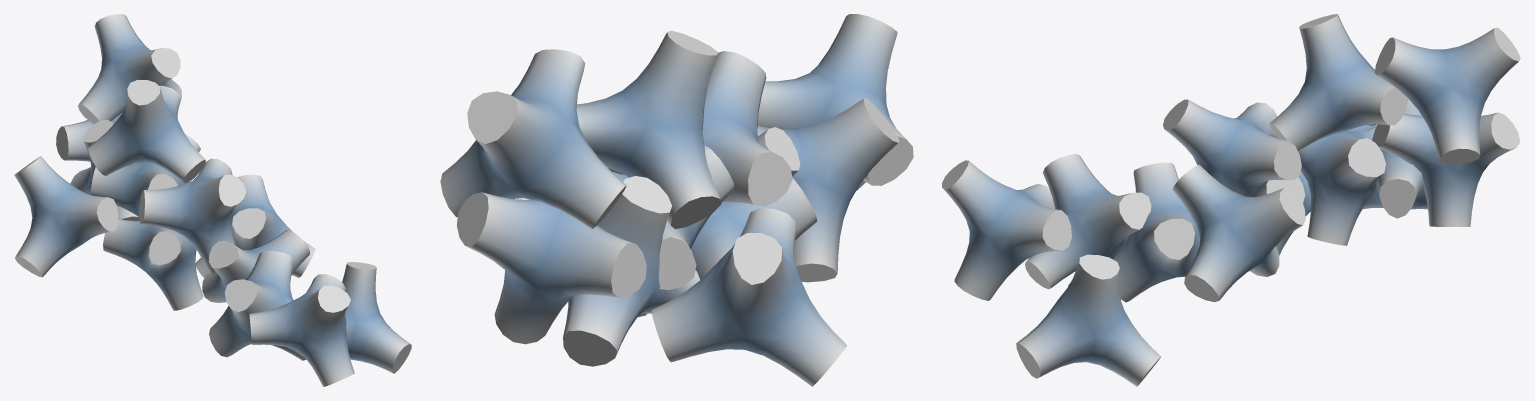
File: Tetrapods_02_cluster_wall.fbx
3 renders of one model, left to right at view 1: azimuth 30°, elevation 25°; view 2: azimuth 150°, elevation 25°; view 3: azimuth 270°, elevation 25°, orthographic. The views are drawn at different scales.
Visible parts, largest first — view 1: Cube.015, Cube.026, Cube.018, Cube.011, Cube.016, Cube.010, Cube.014, Cube.019, Cube.013, Cube.012, Cube.009, Cube.003 (+1 smaller); view 2: Cube.016, Cube.026, Cube.003, Cube.015, Cube.018, Cube.014, Cube, Cube.011, Cube.010, Cube.009, Cube.013; view 3: Cube.016, Cube.012, Cube.018, Cube.019, Cube.015, Cube.011, Cube.014, Cube.003, Cube.009, Cube.013, Cube, Cube.010.
Boxes of the visible parts, left/top/right/bottom form: Cube.015: left=88, top=79, right=205, bottom=182; Cube.026: left=14, top=156, right=118, bottom=277; Cube.018: left=249, top=274, right=354, bottom=386; Cube.011: left=139, top=158, right=246, bottom=273; Cube.016: left=78, top=14, right=181, bottom=123; Cube.010: left=103, top=219, right=203, bottom=310; Cube.014: left=209, top=251, right=305, bottom=360; Cube.019: left=303, top=262, right=411, bottom=373; Cube.013: left=202, top=229, right=309, bottom=302; Cube.012: left=195, top=174, right=315, bottom=277; Cube.009: left=90, top=134, right=200, bottom=216; Cube.003: left=56, top=113, right=122, bottom=161; Cube.016: left=440, top=49, right=626, bottom=229; Cube.026: left=651, top=208, right=847, bottom=386; Cube.003: left=456, top=192, right=646, bottom=344; Cube.015: left=576, top=30, right=721, bottom=228; Cube.018: left=757, top=14, right=913, bottom=190; Cube.014: left=757, top=98, right=899, bottom=282; Cube: left=563, top=176, right=700, bottom=366; Cube.011: left=608, top=51, right=792, bottom=206; Cube.010: left=691, top=178, right=817, bottom=279; Cube.009: left=612, top=145, right=734, bottom=316; Cube.013: left=758, top=127, right=800, bottom=176; Cube.016: left=1374, top=27, right=1520, bottom=164; Cube.012: left=1172, top=165, right=1305, bottom=302; Cube.018: left=942, top=160, right=1071, bottom=300; Cube.019: left=1016, top=254, right=1160, bottom=386; Cube.015: left=1269, top=14, right=1407, bottom=151; Cube.011: left=1163, top=99, right=1301, bottom=196; Cube.014: left=1025, top=154, right=1151, bottom=289; Cube.003: left=1372, top=112, right=1519, bottom=226; Cube.009: left=1270, top=126, right=1385, bottom=245; Cube.013: left=1113, top=162, right=1199, bottom=302; Cube: left=1362, top=99, right=1427, bottom=218; Cube.010: left=1249, top=171, right=1310, bottom=255.
Bounding box in the file's own units: 2719 × 2507 × 4306.
